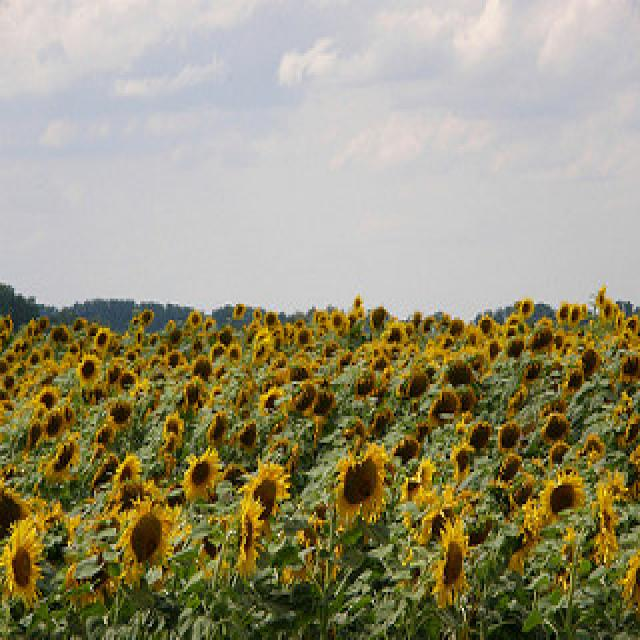sunflower: (331, 446, 388, 520), (124, 499, 174, 577), (2, 520, 43, 604), (435, 518, 470, 602), (243, 464, 287, 515), (540, 471, 586, 518), (178, 451, 220, 502), (234, 496, 261, 570), (73, 354, 102, 388), (108, 396, 138, 427), (496, 451, 521, 488), (235, 416, 260, 451), (115, 454, 140, 488), (182, 375, 206, 407), (498, 418, 522, 450), (311, 389, 338, 417), (208, 407, 229, 443), (544, 414, 570, 440), (164, 411, 184, 442), (451, 445, 475, 468)
